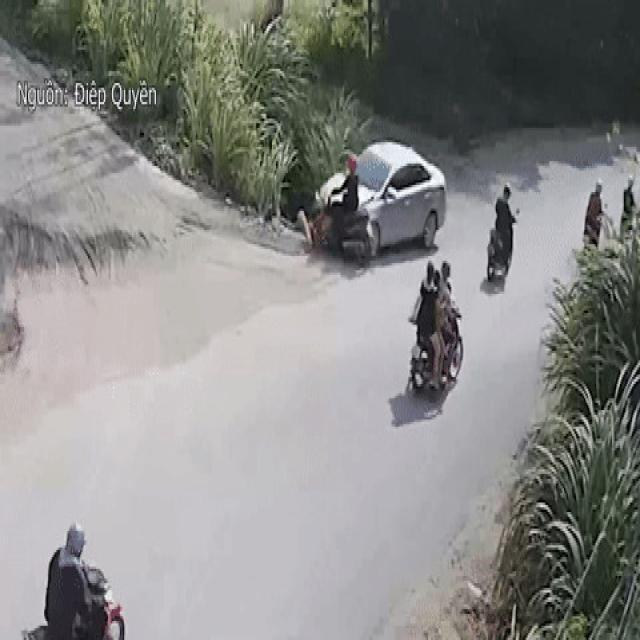multiple_accident: (296, 127, 450, 271)
normal: (9, 493, 139, 640), (399, 250, 476, 411), (466, 169, 520, 293)
